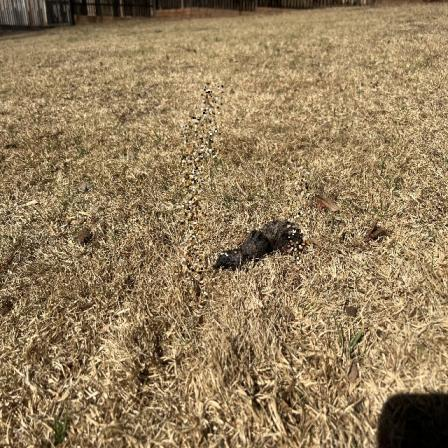dog-poop: (228, 216, 314, 266)
